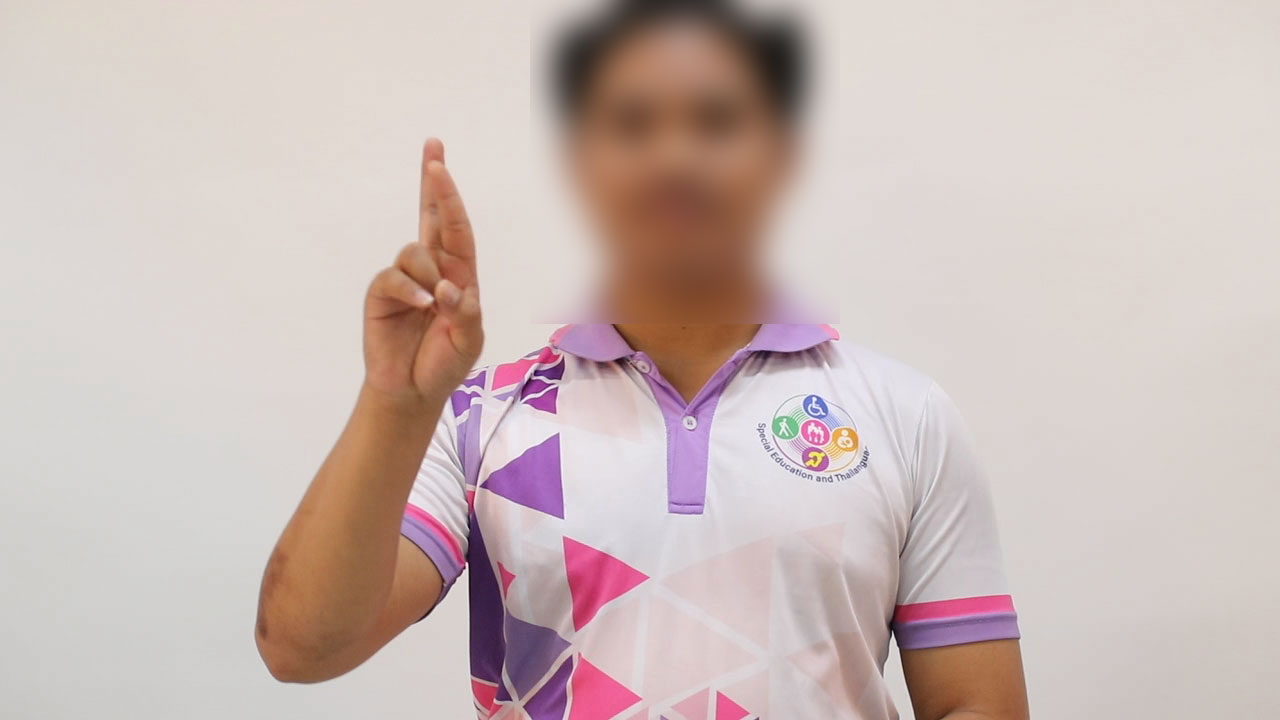rao: (334, 132, 495, 405)
